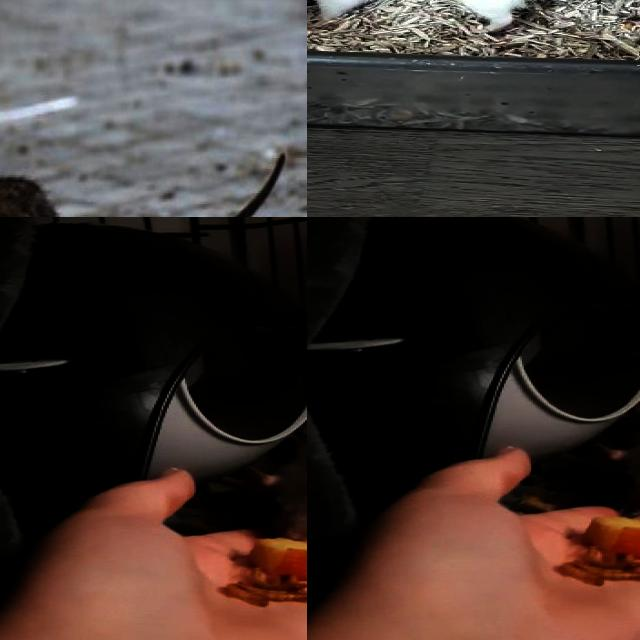rat: (0, 114, 301, 217), (587, 387, 640, 517), (261, 426, 307, 544)
